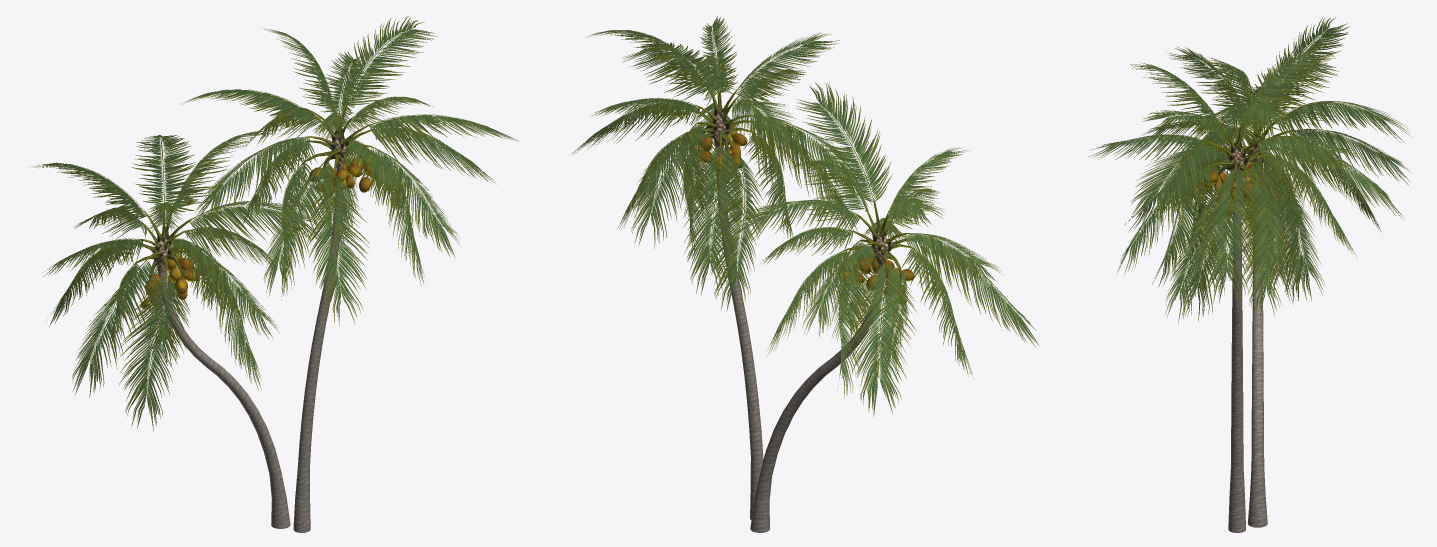
The model's file is coconut_palm.glb.
3 views of the same model, side by side, from view 1: azimuth 30°, elevation 25°; view 2: azimuth 150°, elevation 25°; view 3: azimuth 270°, elevation 25° (orthographic). The views are drawn at different scales.
Visible parts, largest first — view 1: Tree_2_Tree_2Mat_0, Tree_0_Tree_0Mat_0, Tree_3_Tree_3Mat_0, Tree_4_Tree_4Mat_0; view 2: Tree_2_Tree_2Mat_0, Tree_0_Tree_0Mat_0, Tree_3_Tree_3Mat_0, Tree_4_Tree_4Mat_0, Tree_1_Tree_1Mat_0; view 3: Tree_2_Tree_2Mat_0, Tree_0_Tree_0Mat_0, Tree_3_Tree_3Mat_0, Tree_4_Tree_4Mat_0.
Boxes of the visible parts, x1,y1,x2,y2 form: Tree_2_Tree_2Mat_0: [29, 15, 520, 431]; Tree_0_Tree_0Mat_0: [158, 170, 343, 532]; Tree_3_Tree_3Mat_0: [132, 97, 378, 295]; Tree_4_Tree_4Mat_0: [140, 154, 375, 308]; Tree_2_Tree_2Mat_0: [569, 16, 1039, 416]; Tree_0_Tree_0Mat_0: [716, 152, 885, 532]; Tree_3_Tree_3Mat_0: [679, 82, 917, 291]; Tree_4_Tree_4Mat_0: [685, 126, 914, 305]; Tree_1_Tree_1Mat_0: [712, 112, 888, 269]; Tree_2_Tree_2Mat_0: [1089, 17, 1410, 323]; Tree_0_Tree_0Mat_0: [1228, 201, 1267, 532]; Tree_3_Tree_3Mat_0: [1204, 112, 1296, 202]; Tree_4_Tree_4Mat_0: [1202, 162, 1283, 217].
Bounding box in the file's own units: 8.02 × 8 × 5.12.
5 materials, 5 textured.
